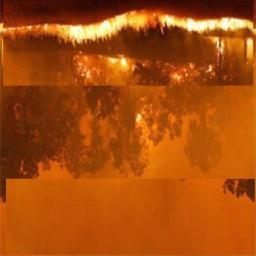Low smoke: (0, 2, 256, 256)
Medium fire: (1, 12, 256, 101)
